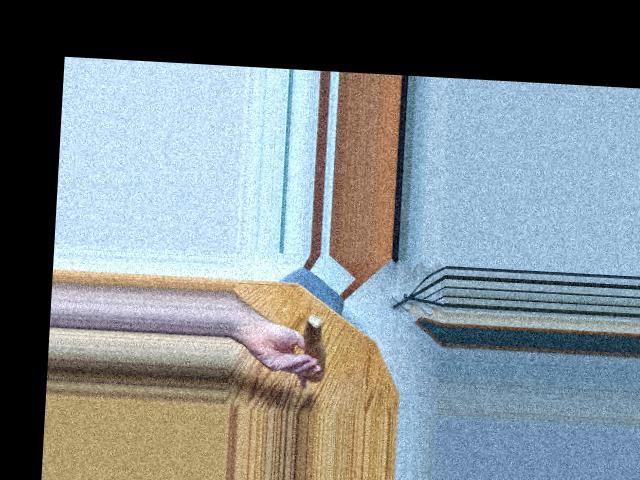sweet_potato: (296, 319, 331, 377)
